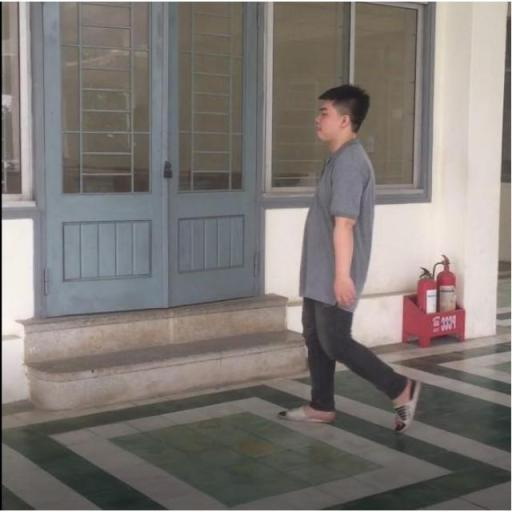Running: (272, 75, 426, 436)
